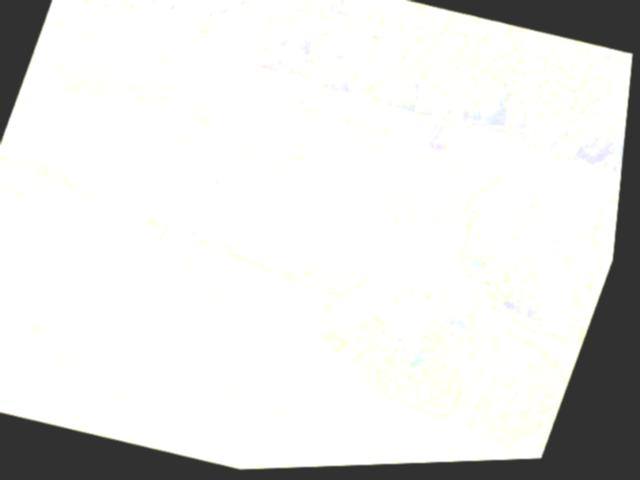iha: (0, 99, 485, 436)
